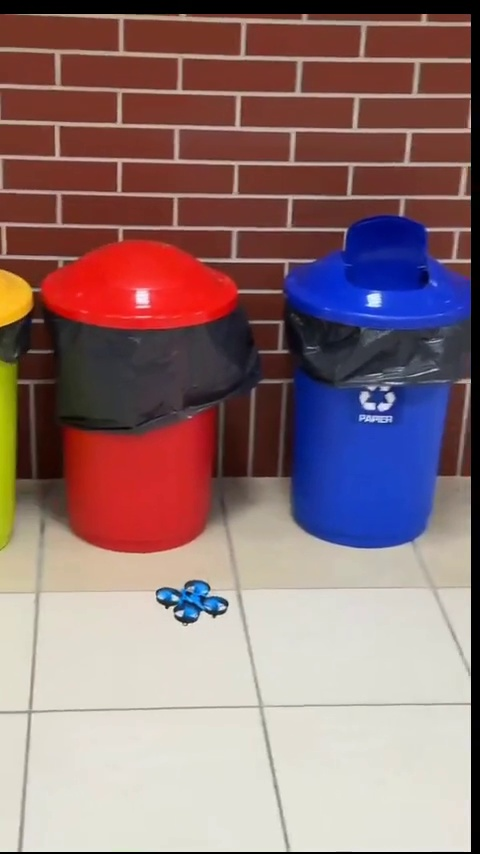drone: (157, 579, 230, 625)
